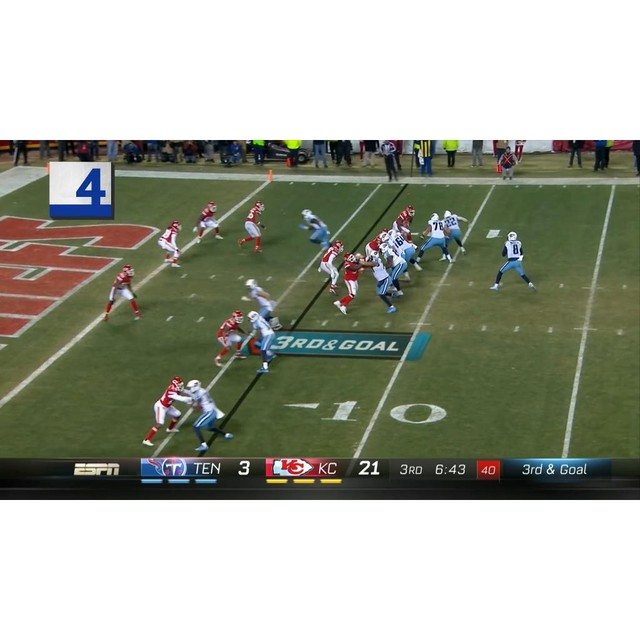american-football-player: (184, 380, 234, 451), (142, 378, 191, 447), (491, 230, 536, 292), (103, 263, 143, 321), (242, 278, 283, 329), (244, 311, 278, 372), (332, 252, 365, 314), (415, 212, 452, 267), (365, 251, 397, 314), (215, 310, 249, 366), (379, 241, 410, 298), (318, 240, 345, 294), (238, 200, 266, 252), (390, 231, 422, 273), (193, 200, 223, 242), (442, 209, 468, 257), (299, 208, 331, 247), (156, 221, 182, 267), (392, 205, 416, 241), (364, 230, 388, 259)
